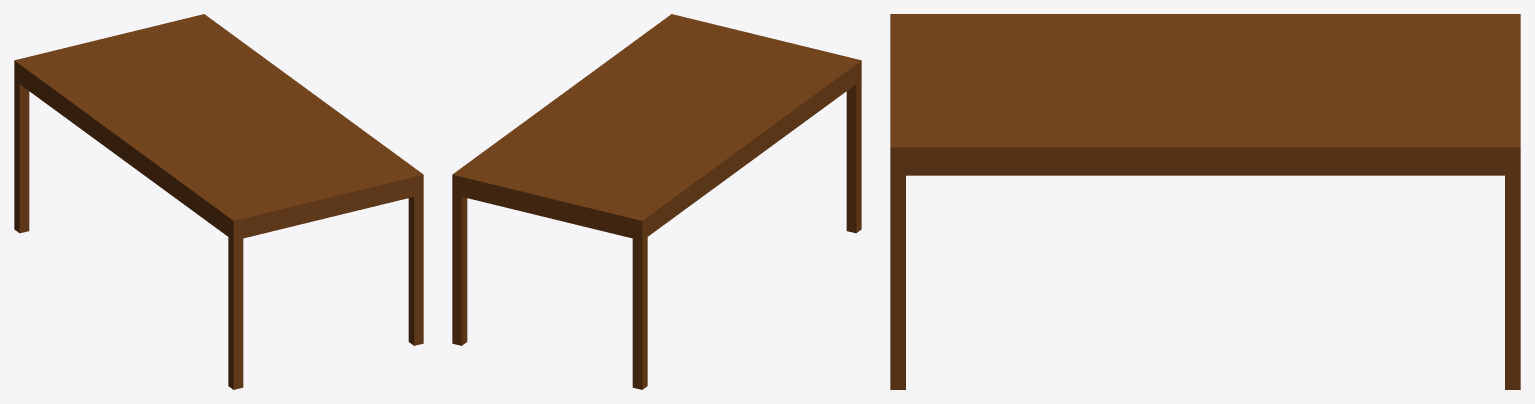
File: long table.obj
The picture shows the model from 3 angles, left to right: view 1: azimuth 30°, elevation 25°; view 2: azimuth 150°, elevation 25°; view 3: azimuth 270°, elevation 25°; orthographic projection. The views are drawn at different scales.
Parts seen in each view (by area): view 1: long table; view 2: long table; view 3: long table.
Part boxes in pixels (x1=…): long table: x1=14, y1=14, x2=423, y2=389; long table: x1=452, y1=14, x2=861, y2=389; long table: x1=890, y1=14, x2=1520, y2=389.
Bounding box in the file's own units: 20 × 17 × 40.
Materials: 1 (1 with a texture image).
